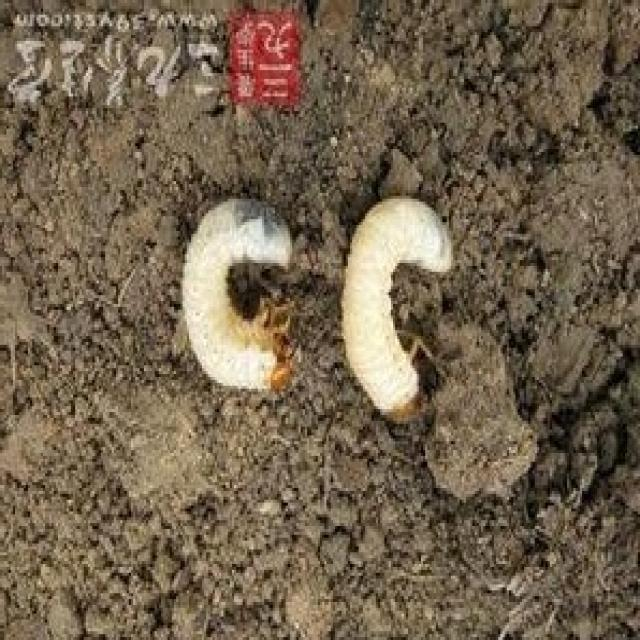grub: (323, 193, 456, 418), (177, 197, 306, 395)
